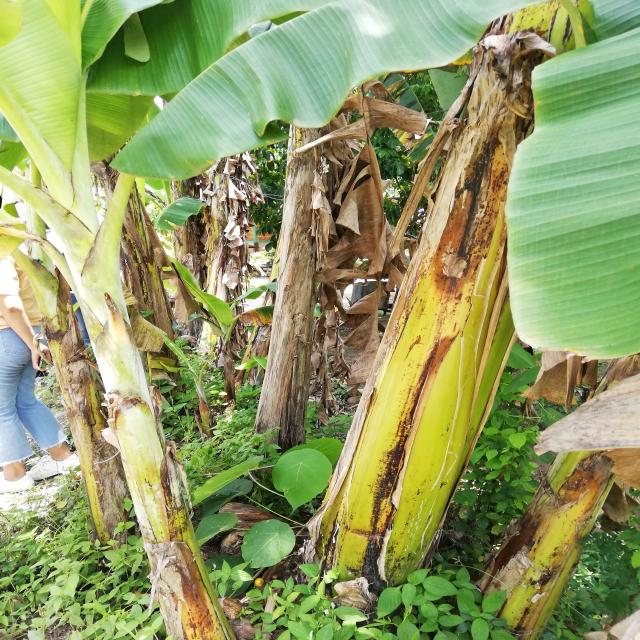Banana-plant: (284, 0, 594, 581), (0, 121, 230, 640), (218, 90, 362, 470)
